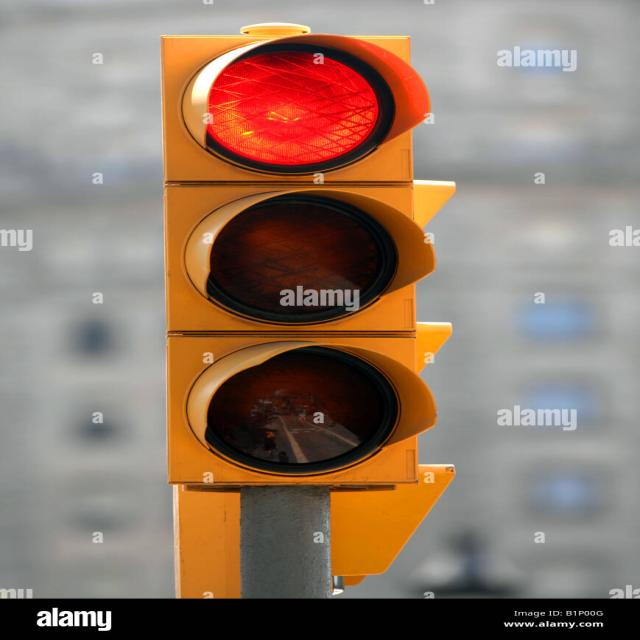red: (202, 34, 406, 156)
